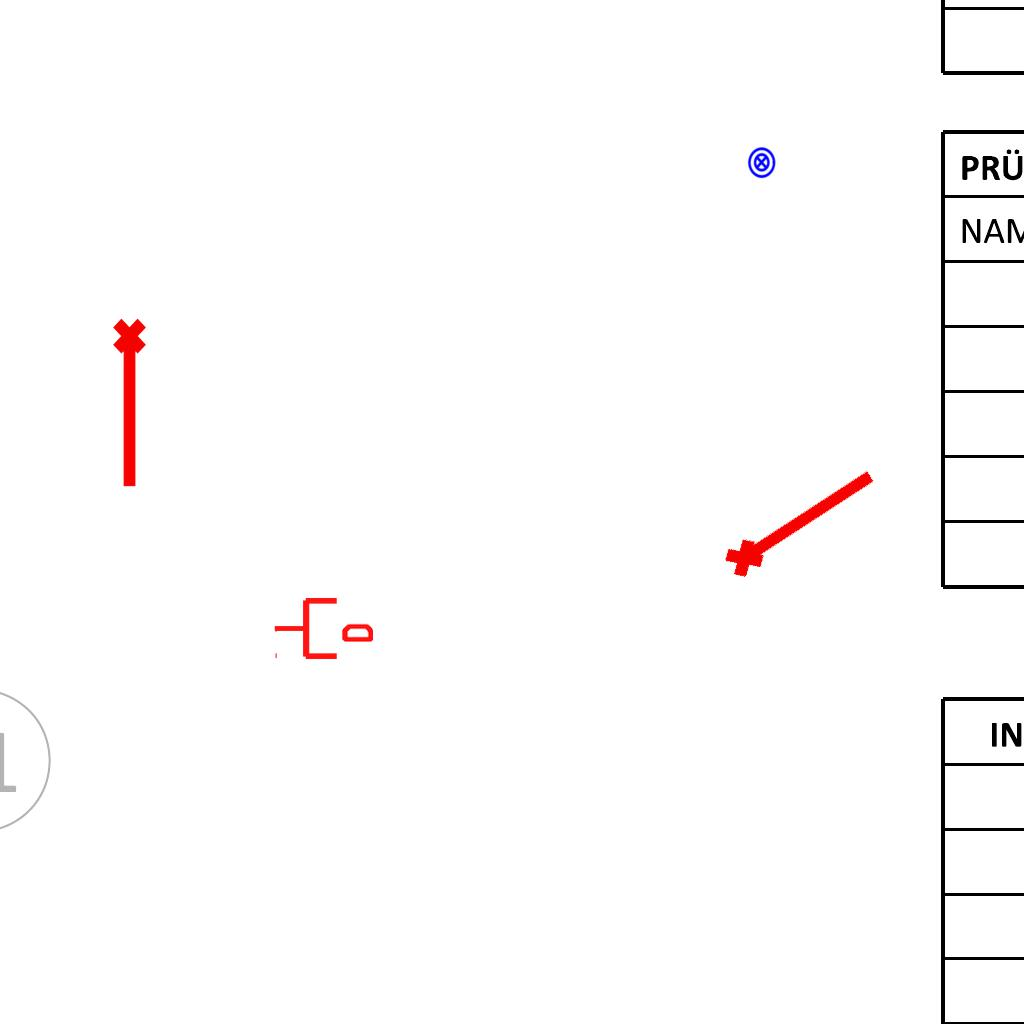ASR_Ansaugoeffnung: (713, 451, 887, 587), (109, 316, 155, 492)
Datenanschluss_einfach: (273, 594, 373, 663)
Taster_beleuchtet: (745, 146, 778, 179)
